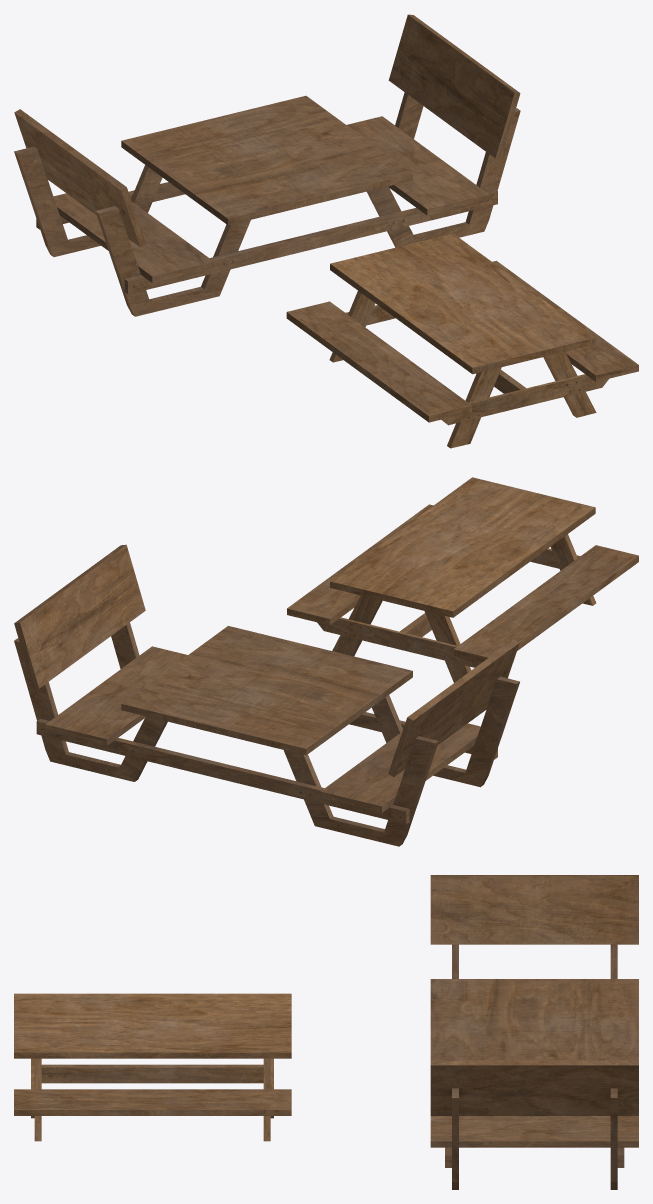
Rendered from picnic_tables.glb.
3 renders of one model, top to bottom at view 1: azimuth 30°, elevation 25°; view 2: azimuth 150°, elevation 25°; view 3: azimuth 270°, elevation 25°, orthographic. The views are drawn at different scales.
Visible parts, largest first — view 1: Picninc_Table, Simple_Picnic_Table; view 2: Picninc_Table, Simple_Picnic_Table; view 3: Picninc_Table, Simple_Picnic_Table.
Part boxes in pixels (x1=…): Picninc_Table: x1=14, y1=14, x2=520, y2=316; Simple_Picnic_Table: x1=286, y1=233, x2=638, y2=448; Picninc_Table: x1=14, y1=544, x2=519, y2=846; Simple_Picnic_Table: x1=287, y1=477, x2=638, y2=682; Picninc_Table: x1=430, y1=875, x2=638, y2=1189; Simple_Picnic_Table: x1=14, y1=993, x2=291, y2=1141.
Bounding box in the file's own units: 684 × 220 × 900.
2 materials, 2 textured.
